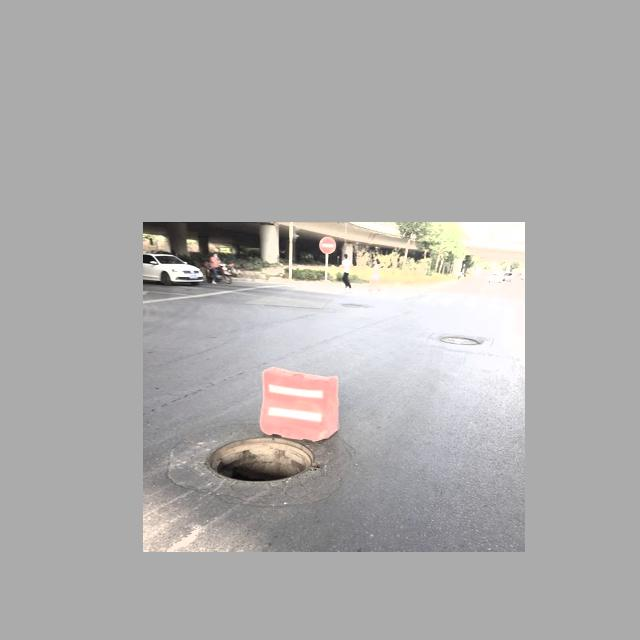lose: (171, 418, 340, 514)
